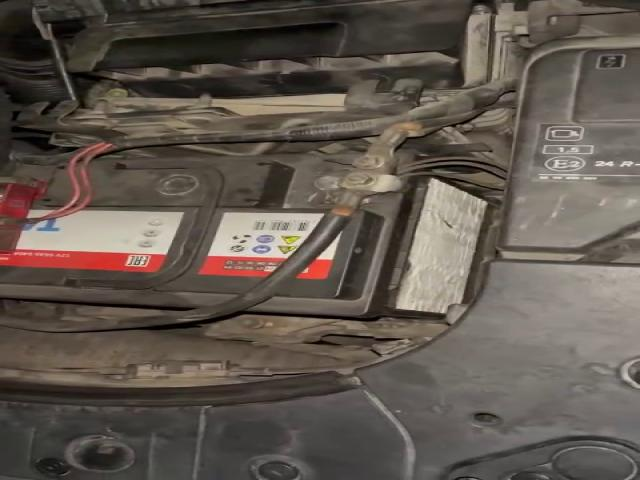accumulator: (0, 150, 493, 319)
fuse_box: (497, 45, 640, 251)
